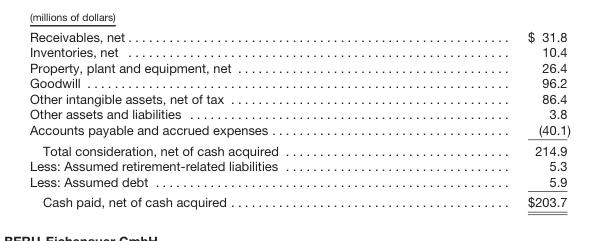table: (28, 28, 569, 209)
table column: (28, 28, 402, 209), (402, 28, 569, 209)
table row: (28, 121, 569, 139), (28, 139, 569, 157), (28, 173, 569, 191), (28, 191, 569, 209), (28, 28, 569, 44), (28, 59, 569, 75), (28, 90, 569, 106), (28, 157, 569, 173), (28, 44, 569, 59), (28, 75, 569, 90), (28, 106, 569, 121)
